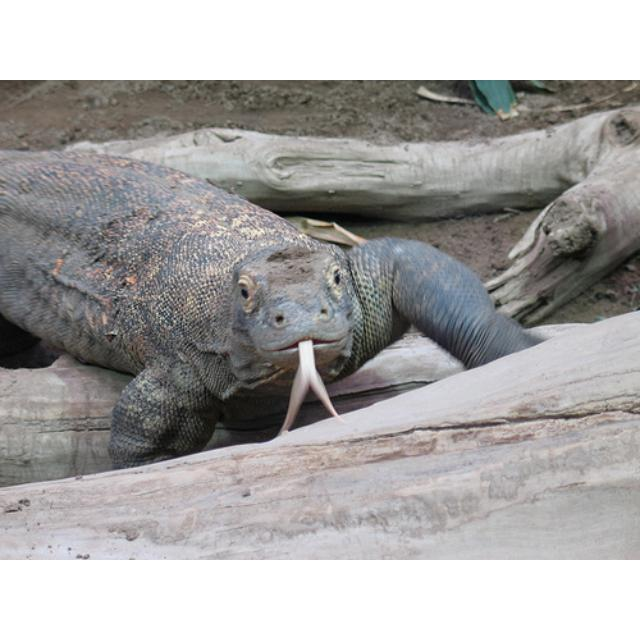KomodoDragon: (0, 149, 542, 469)
